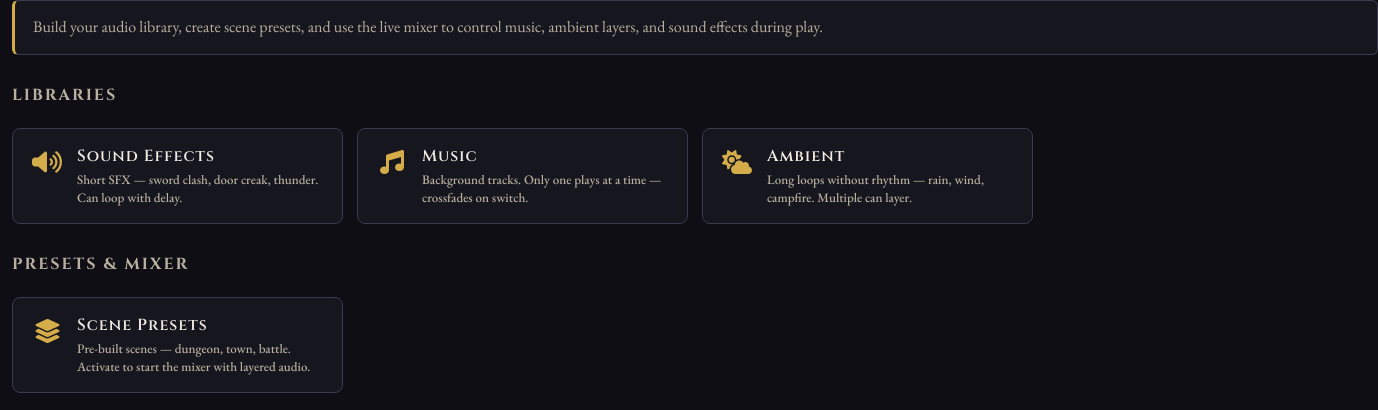
Scenario: SoundIndex › drills into Sound Effects library
What coordinates should you click on to do the following:
click the text "Sound Effects"
I would click on:
 (146, 156)
Its box is [77,145,215,167].
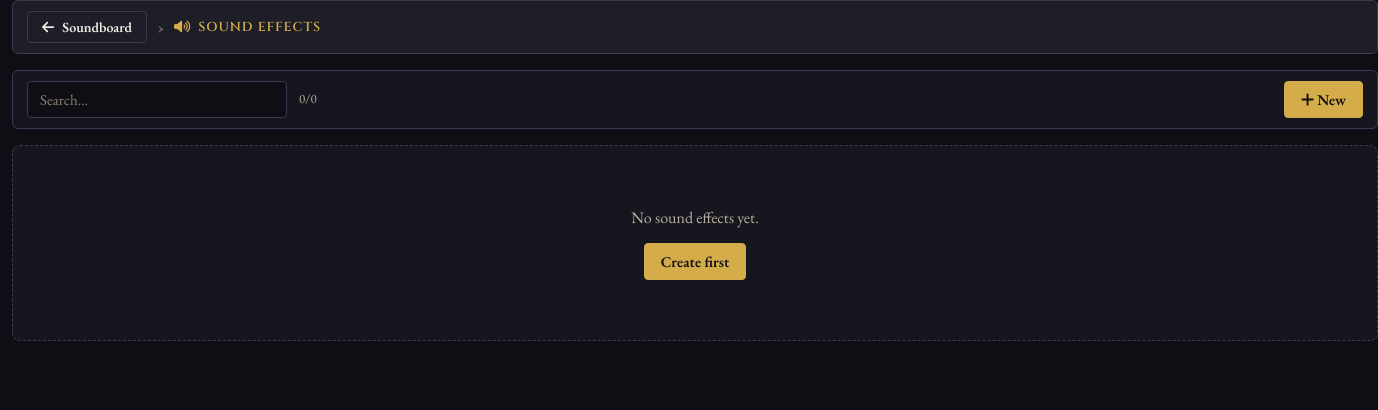
Check: the button "Soundboard" is shown, box [27,11,147,43]
